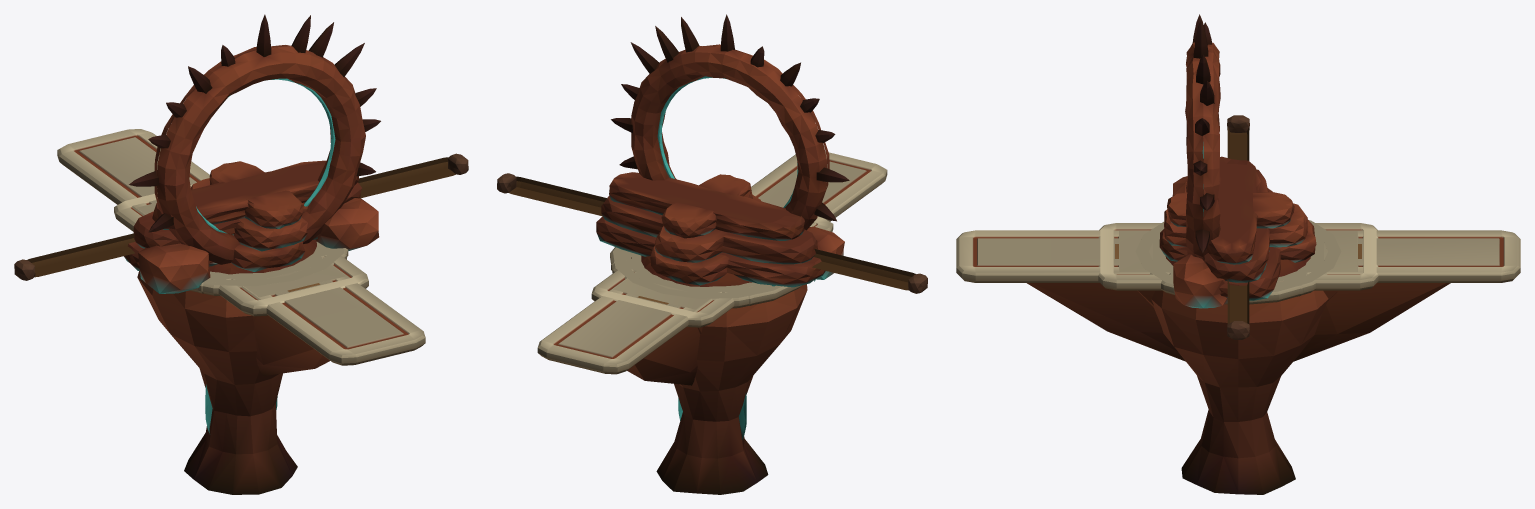
Rendered from canyon-1-B2KVZb6-.glb.
3 views of the same model, side by side, from view 1: azimuth 30°, elevation 25°; view 2: azimuth 150°, elevation 25°; view 3: azimuth 270°, elevation 25° (orthographic). The views are drawn at different scales.
Visible parts, largest first — view 1: portal_#0, disc_12x1.5#0, block_6x2x32_grate#0, spout_11.5x2#0, spout_2x6#0, mount_13.8#0, block_8x2x16#0, geyserVent_3.9#0, block_6x2x10#0, block_10x2x8#0; view 2: disc_12x1.5#0, portal_#0, block_6x2x32_grate#0, spout_11.5x2#0, spout_2x6#0, mount_13.8#0, block_8x2x16#0, block_10x2x8#0, geyserVent_3.9#0, block_6x2x10#0; view 3: block_6x2x32_grate#0, disc_12x1.5#0, portal_#0, spout_11.5x2#0, block_8x2x16#0, spout_2x6#0, mount_13.8#0, block_6x2x10#0.
Boxes of the visible parts, x1,y1,x2,y2 form: portal_#0: (129,14,380,293); disc_12x1.5#0: (137,248,347,494); block_6x2x32_grate#0: (57,129,425,375); spout_11.5x2#0: (124,160,361,270); spout_2x6#0: (191,161,307,271); mount_13.8#0: (14,153,468,280); block_8x2x16#0: (114,184,368,321); geyserVent_3.9#0: (209,239,316,274); block_6x2x10#0: (231,256,322,281); block_10x2x8#0: (198,242,348,293); disc_12x1.5#0: (610,247,807,494); portal_#0: (611,14,849,279); block_6x2x32_grate#0: (537,152,887,385); spout_11.5x2#0: (596,172,825,287); spout_2x6#0: (650,174,760,285); mount_13.8#0: (497,173,927,293); block_8x2x16#0: (591,216,833,333); block_10x2x8#0: (611,250,769,305); geyserVent_3.9#0: (641,255,751,286); block_6x2x10#0: (635,271,728,294); block_6x2x32_grate#0: (956,230,1520,361); disc_12x1.5#0: (1135,220,1341,494); portal_#0: (1172,14,1227,308); spout_11.5x2#0: (1202,156,1280,300); block_8x2x16#0: (1098,223,1378,307); spout_2x6#0: (1159,192,1316,262); mount_13.8#0: (1227,115,1249,339); block_6x2x10#0: (1153,231,1323,273).
Bounding box in the file's own units: 28.5 × 28.57 × 32.
